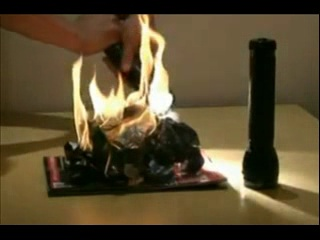fire: (127, 14, 172, 136), (88, 43, 127, 149), (69, 52, 87, 156)
